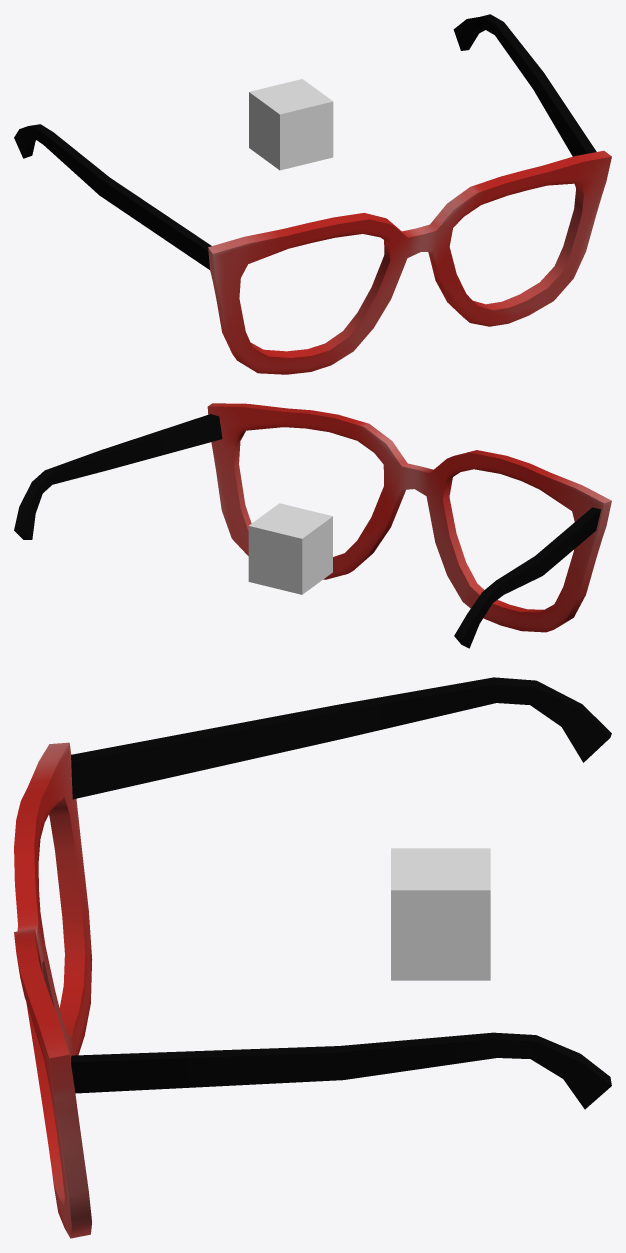
The model's file is boy_glasses4.FBX.
3 views of the same model, one above another, from view 1: azimuth 30°, elevation 25°; view 2: azimuth 150°, elevation 25°; view 3: azimuth 270°, elevation 25° (orthographic). The views are drawn at different scales.
Visible parts, largest first — view 1: boy_glasses06, faceSpawn; view 2: boy_glasses06, faceSpawn; view 3: boy_glasses06, faceSpawn.
Boxes of the visible parts, x1,y1,x2,y2 form: boy_glasses06: [14, 14, 611, 374]; faceSpawn: [249, 79, 333, 170]; boy_glasses06: [14, 403, 611, 648]; faceSpawn: [248, 503, 332, 594]; boy_glasses06: [14, 677, 611, 1238]; faceSpawn: [391, 848, 490, 980].
Size of the model in its own units: 42.97 by 15.28 by 29.99.
